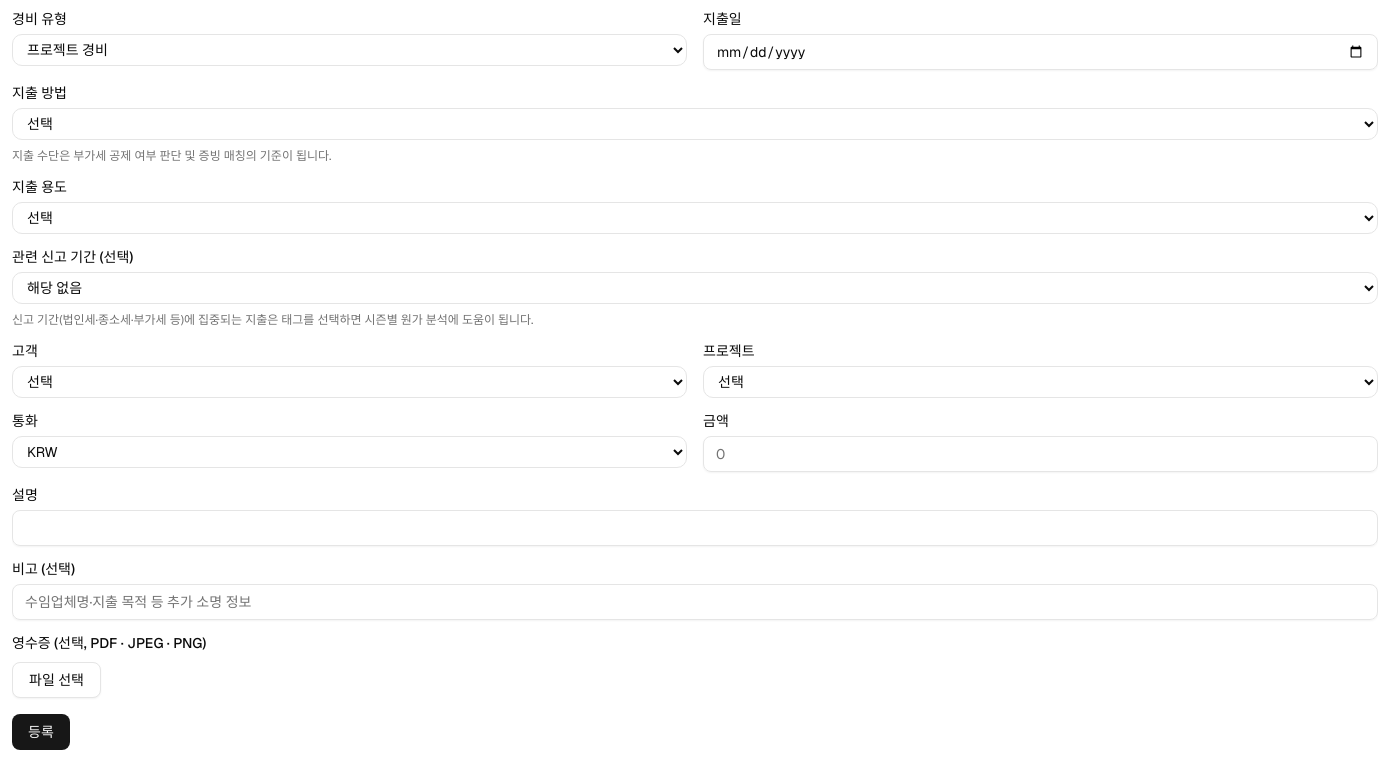
Scenario: ExpenseForm › hides client and project fields for Overhead expense
Select "간접 경비" in the dropdown labelled "경비 유형". click: (350,50)
box: [12, 34, 687, 66]
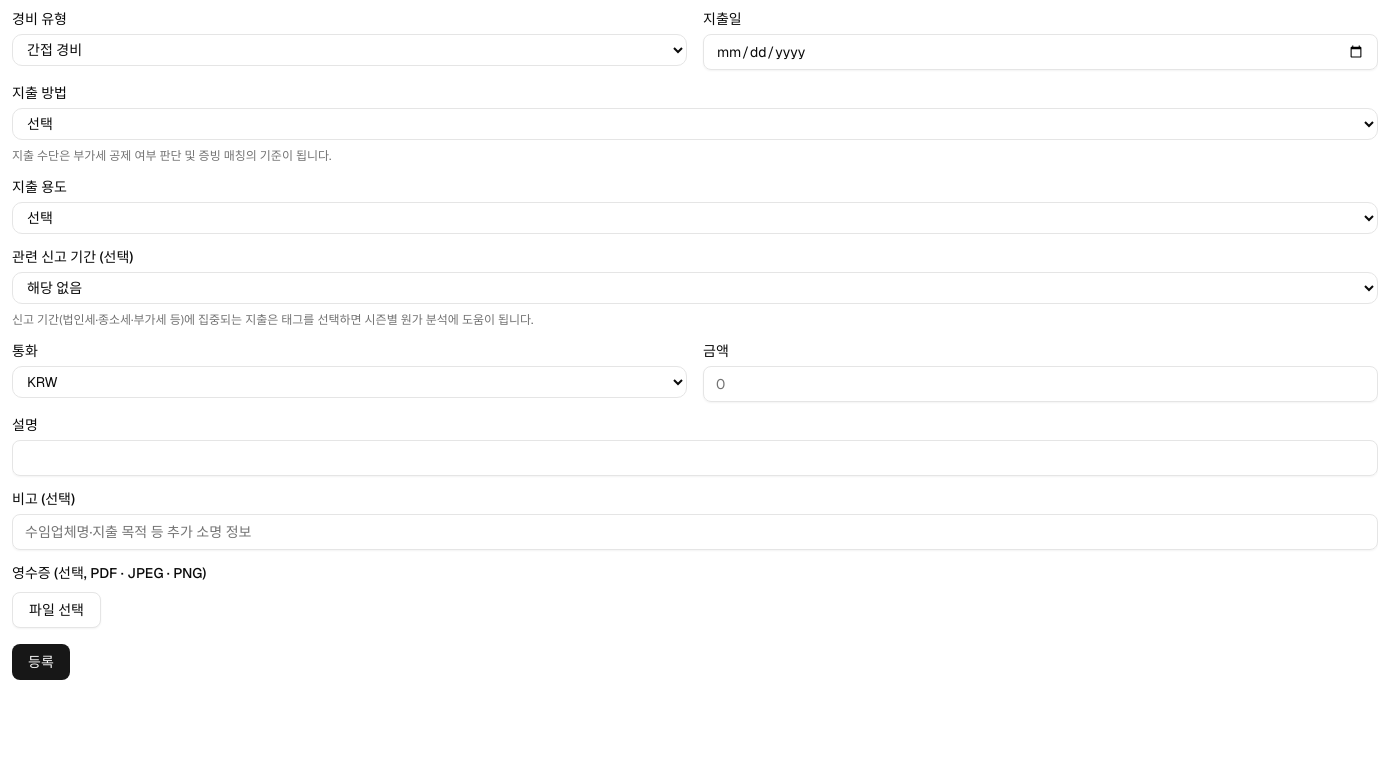
Check: the label labelled "고객" is gone
Check: the label labelled "프로젝트" is gone
